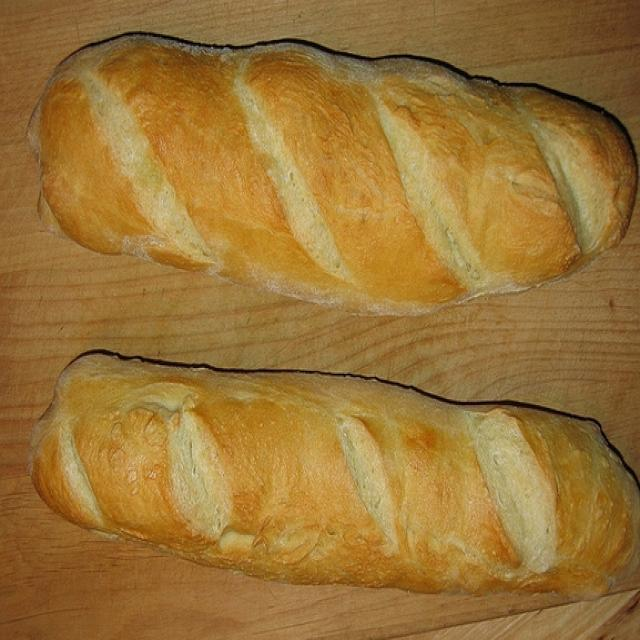Bread: (11, 330, 640, 626), (32, 27, 640, 325)
